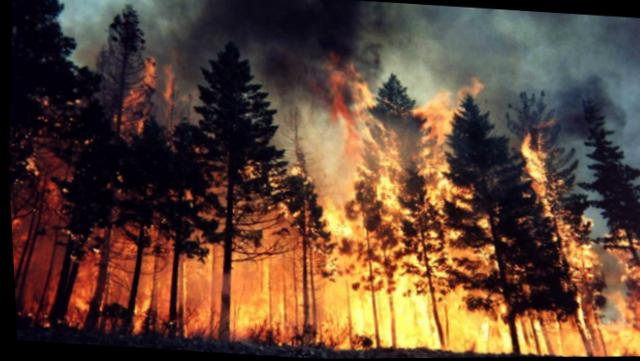fire: (11, 52, 639, 359)
